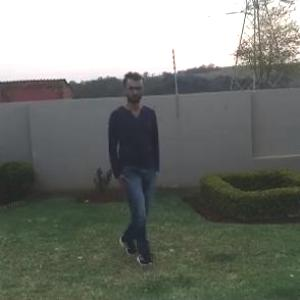follow: (98, 72, 160, 262)
